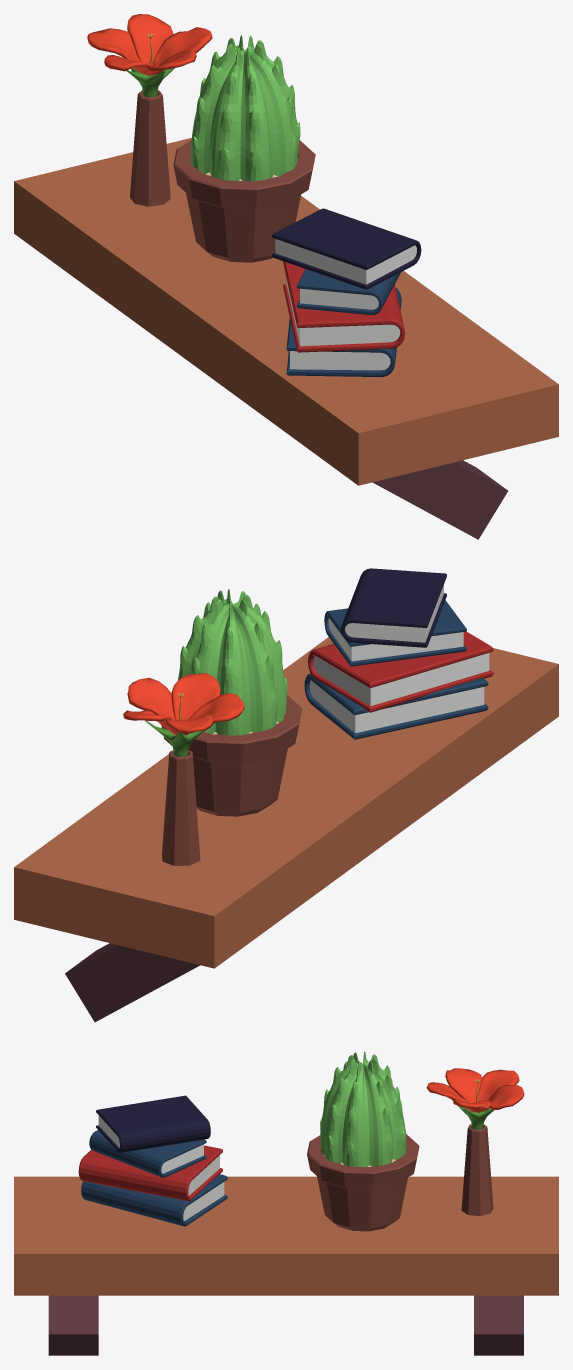
The model's file is Estante-flores.fbx.
3 views of the same model, one above another, from view 1: azimuth 30°, elevation 25°; view 2: azimuth 150°, elevation 25°; view 3: azimuth 270°, elevation 25° (orthographic). The views are drawn at different scales.
Parts seen in each view (by area): view 1: Cube.114, Sphere, Cylinder.011, Cylinder.014, Cylinder.012, Cylinder.015, Cylinder.013; view 2: Cube.114, Sphere, Cylinder.011, Cylinder.012, Cylinder.014, Cylinder.015, Cylinder.013; view 3: Cube.114, Sphere, Cylinder.011, Cylinder.014, Cylinder.012, Cylinder.015, Cylinder.013.
Boxes of the visible parts, x1,y1,x2,y2 form: Cube.114: (14, 138, 558, 539); Sphere: (173, 35, 315, 262); Cylinder.011: (87, 14, 212, 206); Cylinder.014: (272, 208, 421, 289); Cylinder.012: (283, 261, 405, 352); Cylinder.015: (286, 288, 401, 376); Cylinder.013: (297, 269, 400, 315); Cube.114: (14, 637, 558, 1022); Sphere: (161, 589, 302, 816); Cylinder.011: (123, 673, 244, 865); Cylinder.012: (308, 631, 493, 712); Cylinder.014: (341, 568, 446, 647); Cylinder.015: (304, 673, 488, 739); Cylinder.013: (324, 600, 466, 666); Cube.114: (14, 1176, 558, 1355); Sphere: (307, 1051, 419, 1231); Cylinder.011: (426, 1068, 524, 1216); Cylinder.014: (96, 1095, 210, 1152); Cylinder.012: (78, 1145, 222, 1201); Cylinder.015: (81, 1174, 227, 1226); Cylinder.013: (89, 1130, 206, 1177).
Size of the model in its own units: 57.74 by 99.11 by 171.
